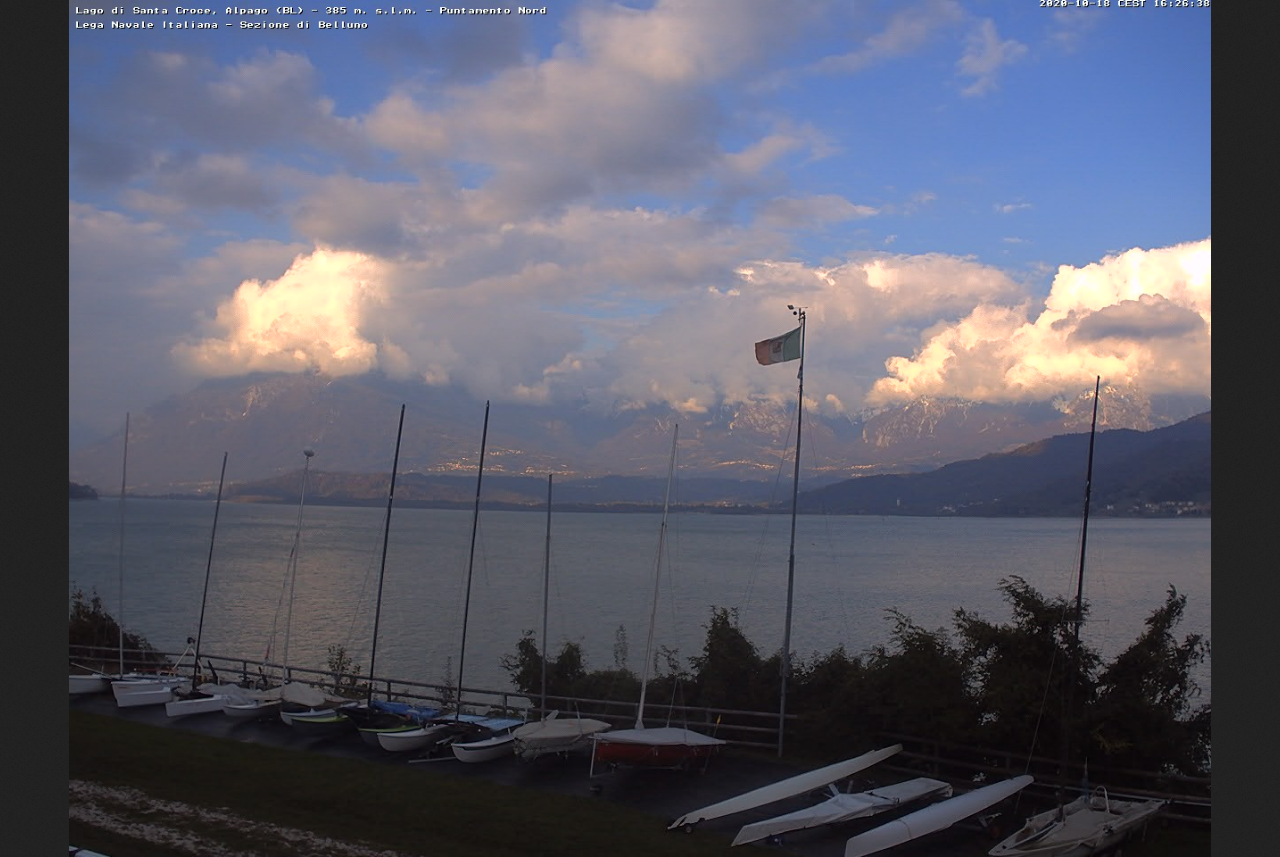yes: (750, 319, 805, 369)
